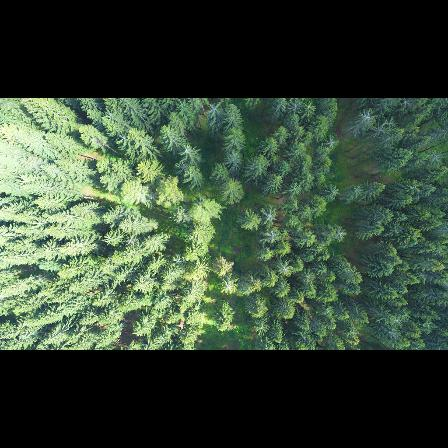Sick: (204, 101, 225, 120), (355, 109, 377, 126), (219, 278, 238, 296), (177, 141, 195, 158), (259, 205, 275, 223), (323, 134, 340, 150), (298, 270, 316, 285), (276, 262, 293, 276), (332, 227, 345, 242), (391, 316, 404, 329)
